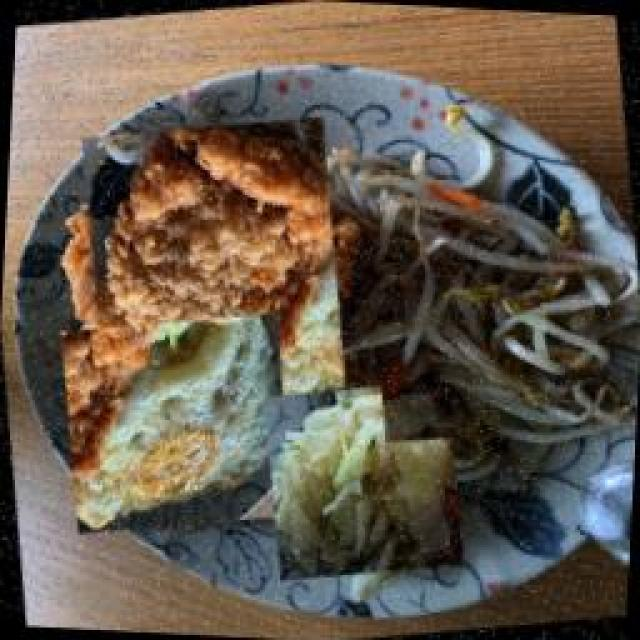chinese_cabbage: (255, 370, 473, 590)
fried_chicken: (63, 110, 368, 418)
fried_eggs: (53, 298, 303, 548)
mung_bean_sprouts: (345, 138, 640, 453)
